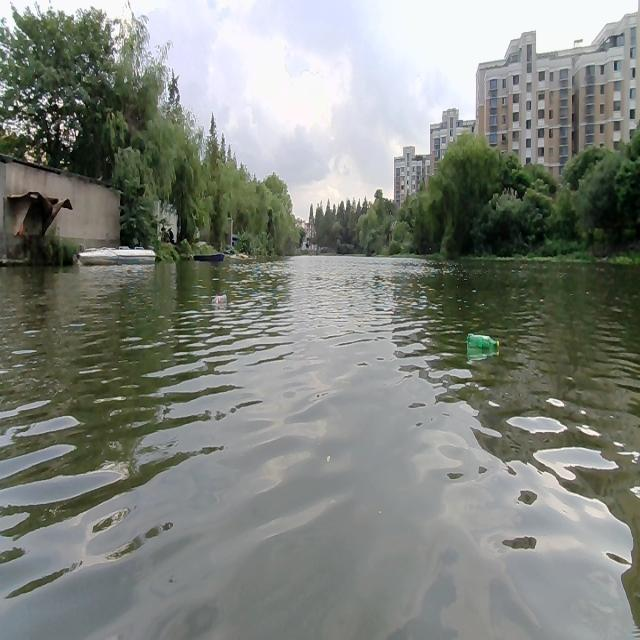bottle: (464, 331, 500, 352), (210, 293, 227, 307)
